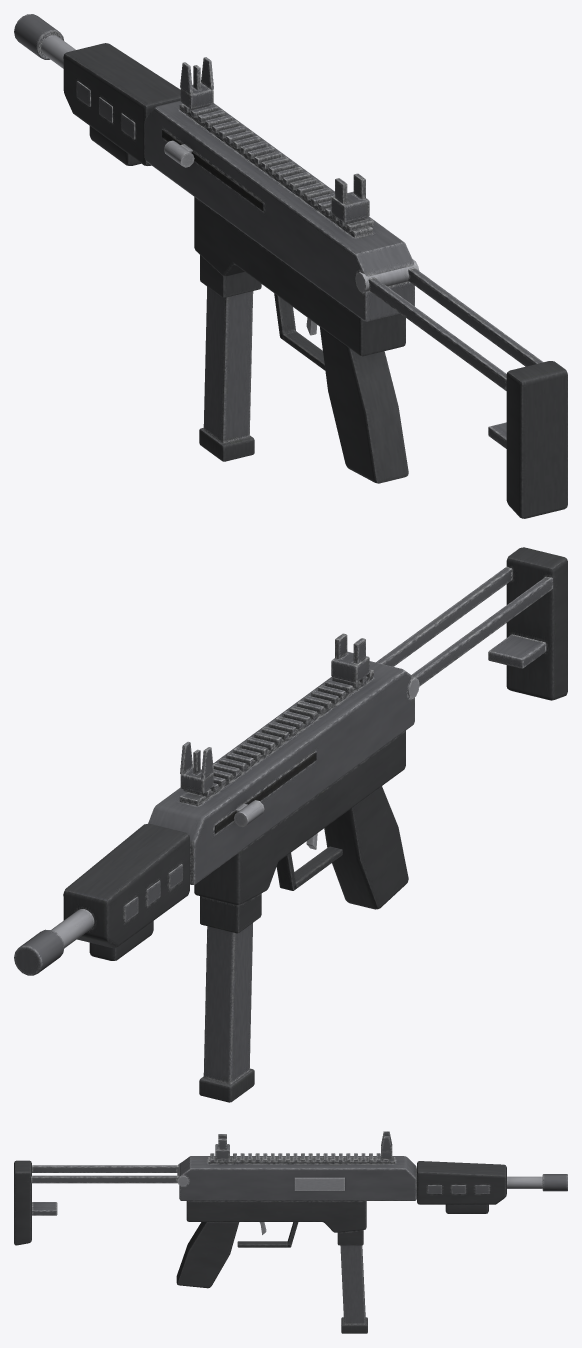
The model's file is smg_kestrel.glb.
3 renders of one model, top to bottom at view 1: azimuth 30°, elevation 25°; view 2: azimuth 150°, elevation 25°; view 3: azimuth 270°, elevation 25°, orthographic. The views are drawn at different scales.
Parts seen in each view (by area): view 1: body, mag; view 2: body, mag; view 3: body, mag, action.
Boxes of the visible parts, box(x1,y1,x2,y2) form: body: box(14, 14, 567, 518); mag: box(199, 286, 254, 461); body: box(14, 547, 567, 975); mag: box(199, 923, 254, 1102); body: box(14, 1131, 567, 1288); mag: box(340, 1245, 367, 1333); action: box(294, 1177, 344, 1190).
Size of the model in its own units: 0.0595 by 0.3005 by 0.77.
1 material, 1 textured.
